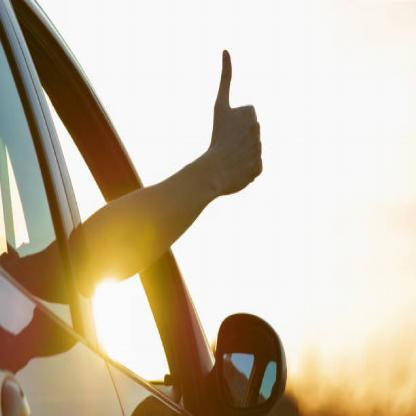thumb_up: (205, 42, 264, 198)
